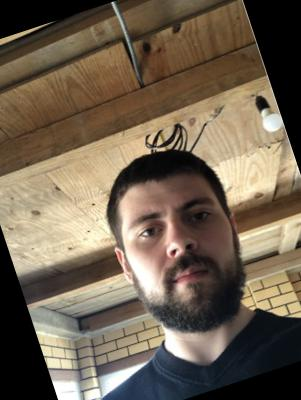without_mask: (117, 181, 259, 345)
